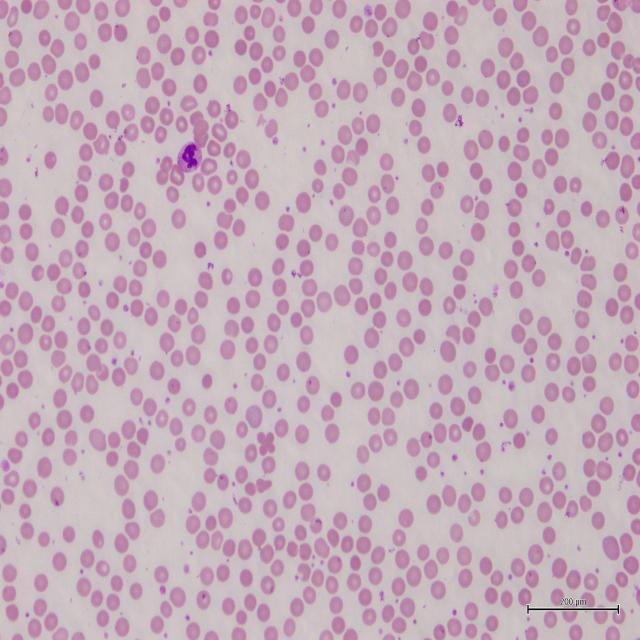cell: (178, 142, 202, 172)
